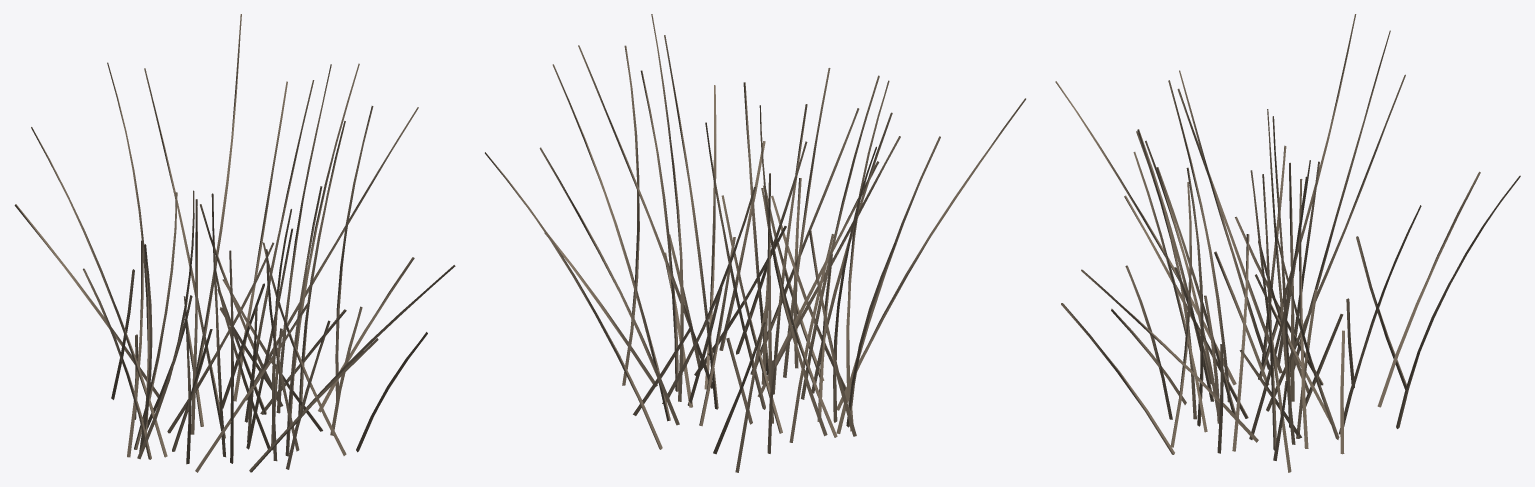
File: Cattail.fbx
3 views of the same model, side by side, from view 1: azimuth 30°, elevation 25°; view 2: azimuth 150°, elevation 25°; view 3: azimuth 270°, elevation 25° (orthographic). The views are drawn at different scales.
Visible parts, largest first — view 1: cattail1Main; view 2: cattail1Main; view 3: cattail1Main.
Boxes of the visible parts, box(x1,y1,x2,y2) form: cattail1Main: box(14, 14, 455, 472); cattail1Main: box(485, 14, 1025, 472); cattail1Main: box(1055, 14, 1520, 472).
Size of the model in its own units: 4.77 by 4.55 by 5.39.
